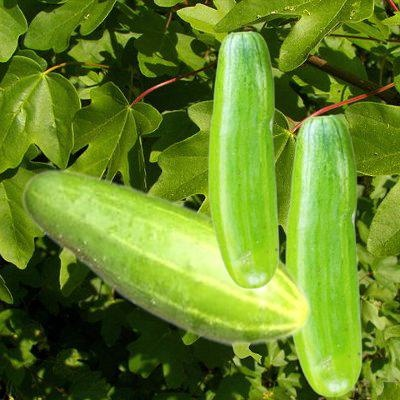cucumber: (21, 168, 311, 347), (285, 114, 361, 396), (208, 30, 278, 288)
